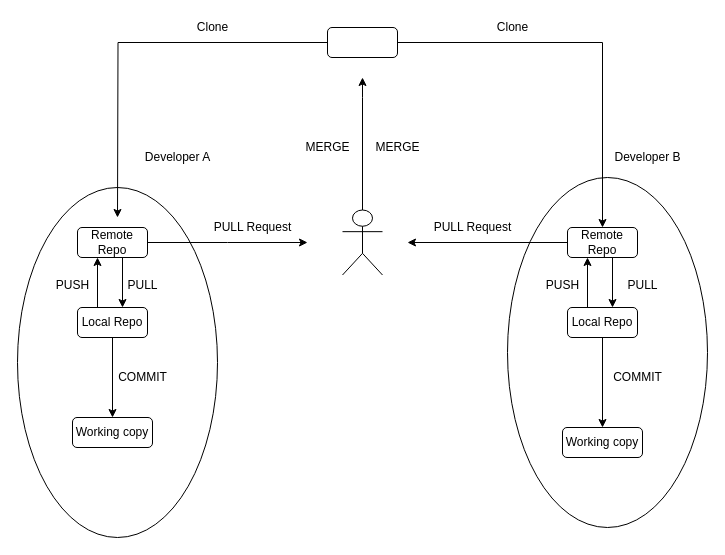
Image size: 725x555. Some labels were removed from this diagram. The box of each missing label's shape, as (x1, y1, x2, y2) in pixels:
Master Repo: (326, 26, 398, 58)
Reviewer/Approver: (342, 209, 382, 275)
